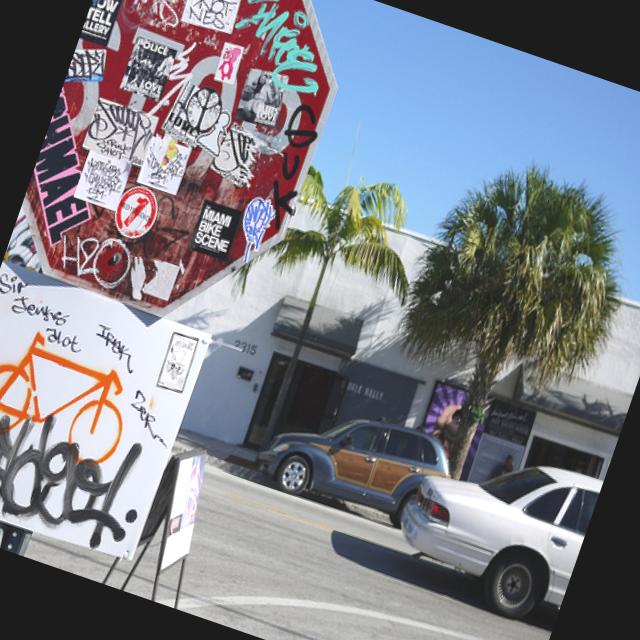Vehicle: (377, 418, 604, 634), (246, 384, 462, 544)
